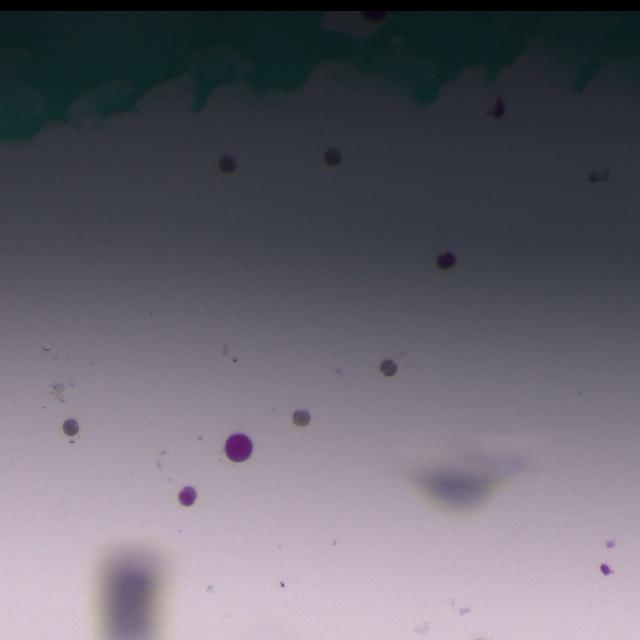non_viable: (436, 251, 456, 270), (218, 154, 236, 173), (292, 409, 310, 427), (379, 359, 397, 376), (324, 148, 341, 166), (62, 418, 78, 437)
viable: (225, 433, 252, 461), (178, 486, 196, 505), (360, 11, 387, 23)
